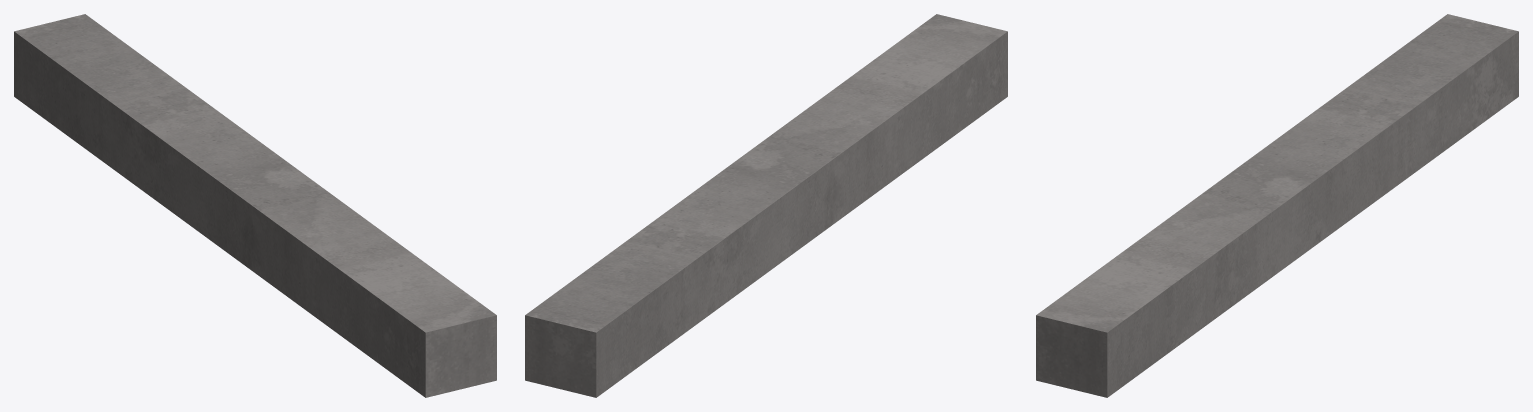
Rendered from Con_asphaltFloor02.fbx.
3 renders of one model, left to right at view 1: azimuth 30°, elevation 25°; view 2: azimuth 150°, elevation 25°; view 3: azimuth 330°, elevation 25°, orthographic.
Visible parts, largest first — view 1: Asphalt2; view 2: Asphalt2; view 3: Asphalt2.
Part boxes in pixels (x1,y1,x2,y2): Asphalt2: (14, 14, 496, 397); Asphalt2: (525, 14, 1007, 397); Asphalt2: (1036, 14, 1518, 397).
Bounding box in the file's own units: 0.4 × 0.3502 × 4.
Materials: 1 (1 with a texture image).
